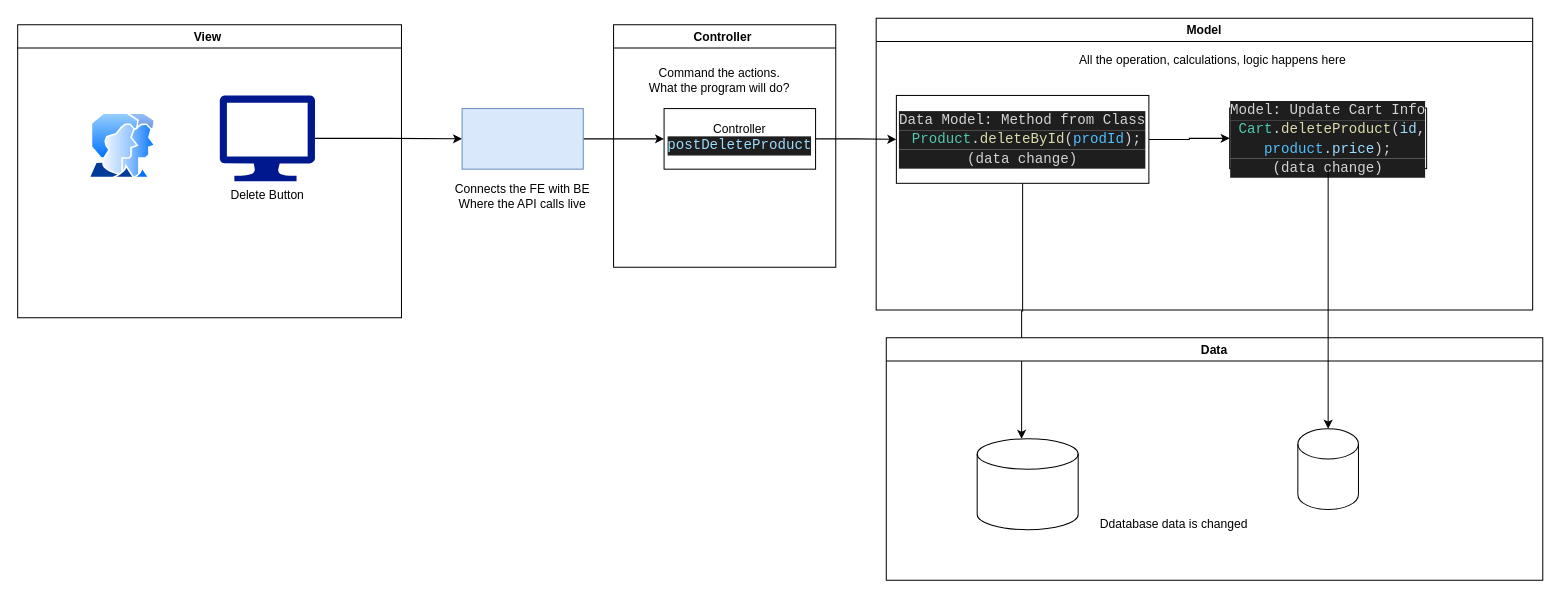
Some shapes in this 1560 by 598 pixel diagram are drawn without their labels. The shapes that lost their labels are listed below. From the top down, each one's centre as x and y in pixels, then its label:
At point (122, 145): "User".
At point (522, 138): "Route /admin/delete-product".
At point (1027, 484): "Product.json is altered".
At point (1327, 469): "Cart.json is altered".
